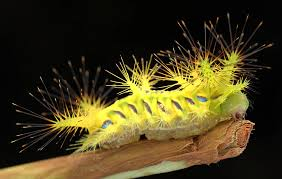Pest! (nettle_caterpillar): (19, 25, 253, 153)
